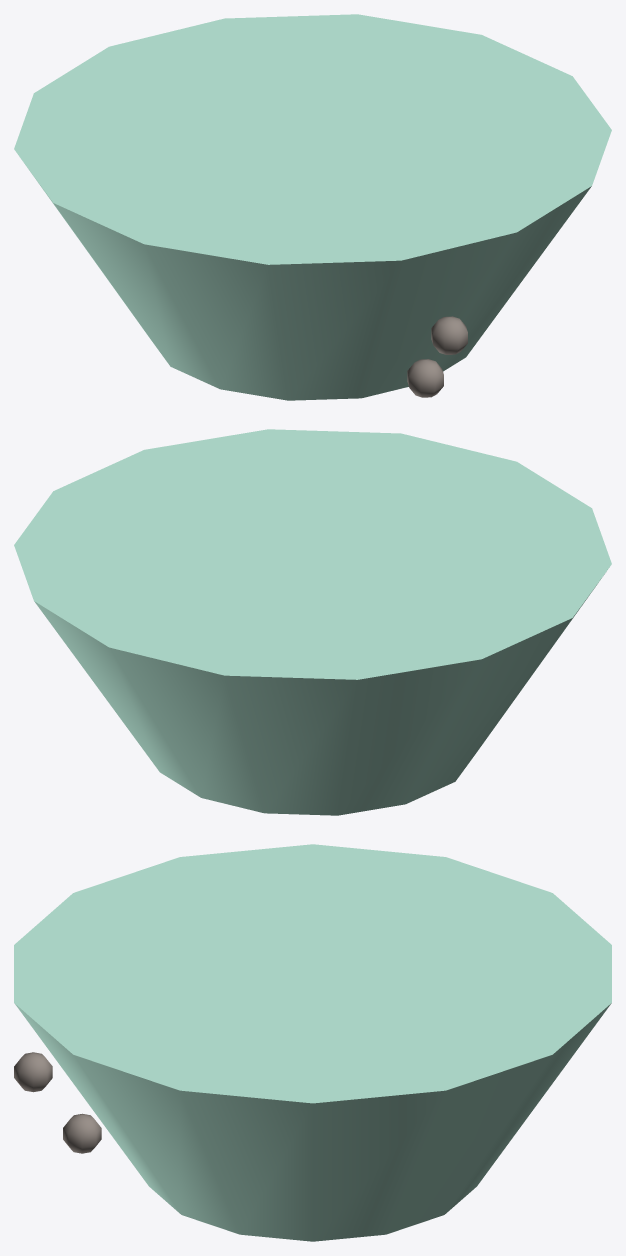
Rendered from outfit_vest.glb.
3 views of the same model, one above another, from view 1: azimuth 30°, elevation 25°; view 2: azimuth 150°, elevation 25°; view 3: azimuth 270°, elevation 25° (orthographic). The views are drawn at different scales.
Parts seen in each view (by area): view 1: outfit_vest; view 2: outfit_vest; view 3: outfit_vest.
Boxes of the visible parts, x1,y1,x2,y2 form: outfit_vest: [14, 14, 611, 400]; outfit_vest: [14, 429, 611, 815]; outfit_vest: [14, 844, 611, 1241].
Size of the model in its own units: 45.2 by 16 by 44.07.
